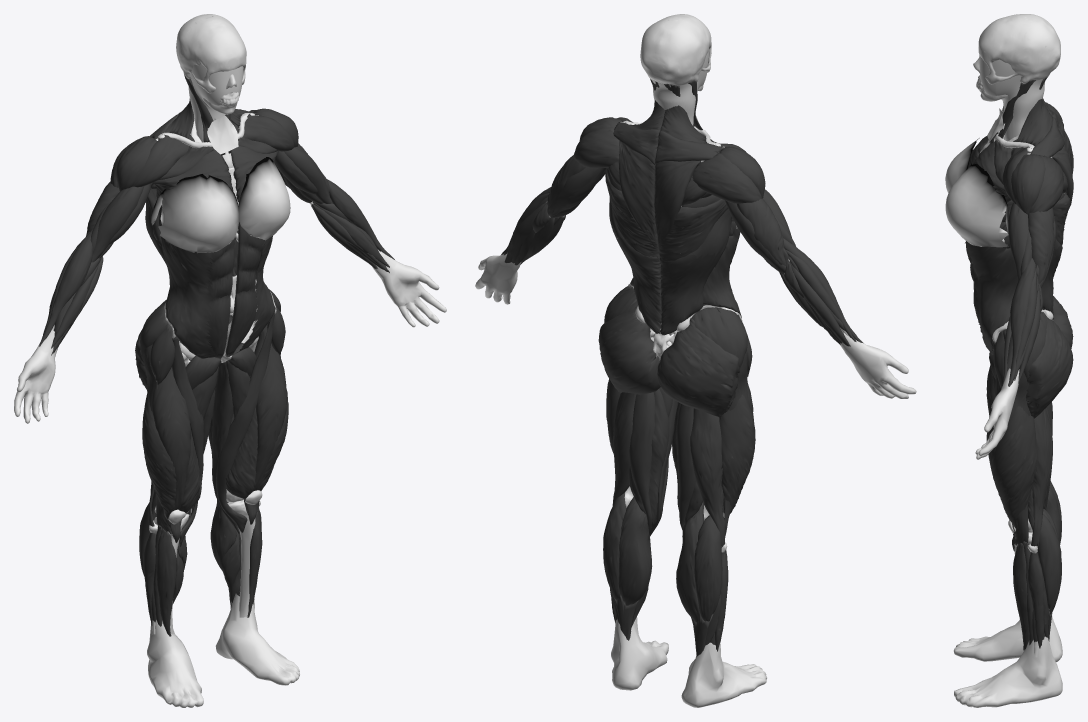
Rendered from corpo-f-9.glb.
3 renders of one model, left to right at view 1: azimuth 30°, elevation 25°; view 2: azimuth 150°, elevation 25°; view 3: azimuth 270°, elevation 25°, orthographic.
Parts seen in each view (by area): view 1: pele, deco, mama, quad_reto_femoral, obliquos, adutores, osso, antebraco_flexores, quad_vasto_lateral, ombro_frontal, antebraco_braquiorradial, quad_vasto_medial (+16 smaller); view 2: pele, gluteo_maximo, panturrilha_gastro, isquio_semitendineo, dorsal_inferior, isquio_biceps_femoral, trapezio_inferior, dorsal_superior, osso, antebraco_extensores, ombro_posterior, quad_vasto_lateral (+13 smaller); view 3: pele, osso, mama, deco, quad_vasto_lateral, obliquos, gluteo_maximo, panturrilha_gastro, cabeca, isquio_biceps_femoral, ombro_lateral, triceps_lateral (+22 smaller).
Boxes of the visible parts, <box> form: pele: <box>14,251,446,707</box>; deco: <box>143,74,280,636</box>; mama: <box>151,157,290,253</box>; quad_reto_femoral: <box>152,324,286,542</box>; obliquos: <box>161,236,275,358</box>; adutores: <box>180,342,256,547</box>; osso: <box>176,14,246,114</box>; antebraco_flexores: <box>51,201,389,355</box>; quad_vasto_lateral: <box>142,388,288,520</box>; ombro_frontal: <box>132,113,294,187</box>; antebraco_braquiorradial: <box>39,179,394,346</box>; quad_vasto_medial: <box>179,407,257,514</box>; pele: <box>475,254,916,707</box>; gluteo_maximo: <box>598,306,739,417</box>; panturrilha_gastro: <box>603,492,722,622</box>; isquio_semitendineo: <box>628,389,702,532</box>; dorsal_inferior: <box>613,230,725,335</box>; isquio_biceps_femoral: <box>612,392,725,546</box>; trapezio_inferior: <box>619,141,700,250</box>; dorsal_superior: <box>605,168,732,258</box>; osso: <box>640,14,711,91</box>; antebraco_extensores: <box>504,193,856,346</box>; ombro_posterior: <box>573,127,761,203</box>; quad_vasto_lateral: <box>606,379,755,513</box>; pele: <box>953,368,1062,707</box>; osso: <box>973,14,1060,101</box>; mama: <box>945,138,1008,247</box>; deco: <box>989,80,1052,650</box>; quad_vasto_lateral: <box>992,406,1037,543</box>; obliquos: <box>965,222,1018,354</box>; gluteo_maximo: <box>1026,296,1073,418</box>; panturrilha_gastro: <box>1037,481,1061,614</box>; cabeca: <box>979,55,1049,148</box>; isquio_biceps_femoral: <box>1028,402,1052,547</box>; ombro_lateral: <box>1011,154,1045,214</box>; triceps_lateral: <box>1028,207,1054,283</box>.
Size of the model in its own units: 1.14 by 1.65 by 0.2907.
Materials: 1 (1 with a texture image).
